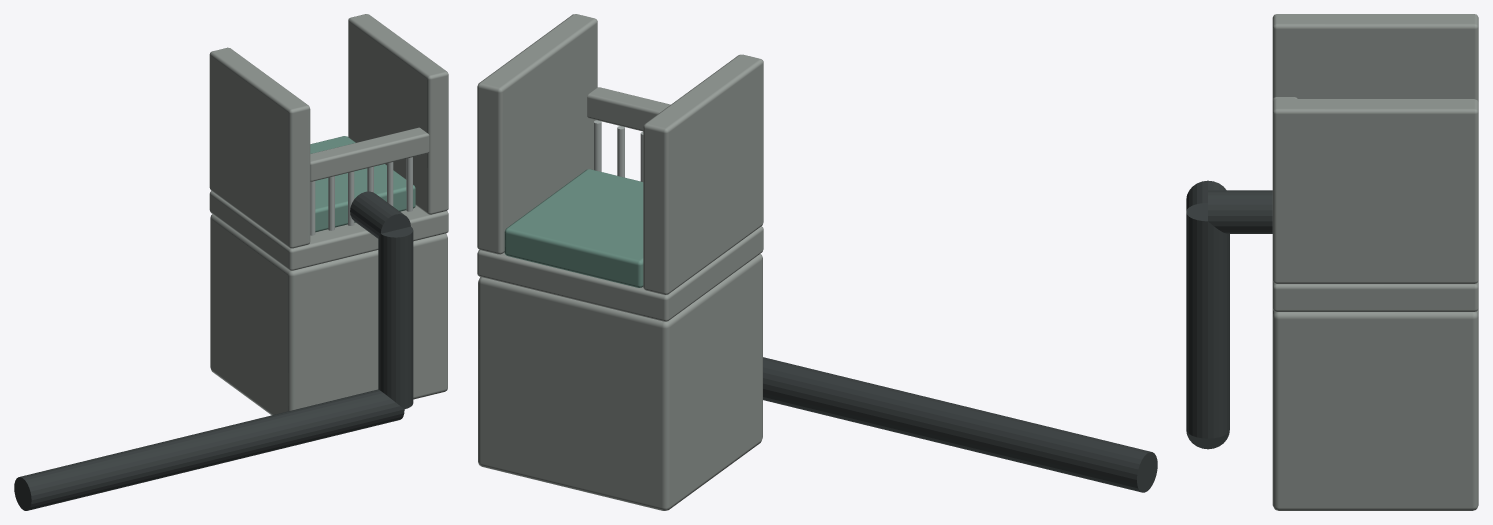
The model's file is canal-boats-and-lock-operations-canal-boats-and-lock-o-a4a2cd9e__31640.glb.
The picture shows the model from 3 angles, left to right: view 1: azimuth 30°, elevation 25°; view 2: azimuth 150°, elevation 25°; view 3: azimuth 270°, elevation 25°; orthographic projection. The views are drawn at different scales.
Parts seen in each view (by area): view 1: canal-boats-and-lock-operations-bywash-outlet-grille; view 2: canal-boats-and-lock-operations-bywash-outlet-grille; view 3: canal-boats-and-lock-operations-bywash-outlet-grille.
Part boxes in pixels (box(x1,y1,x2,y2)): canal-boats-and-lock-operations-bywash-outlet-grille: box(14, 14, 448, 510); canal-boats-and-lock-operations-bywash-outlet-grille: box(477, 14, 1157, 510); canal-boats-and-lock-operations-bywash-outlet-grille: box(1186, 14, 1478, 510).
Size of the model in its own units: 2.55 by 1.73 by 1.13.
